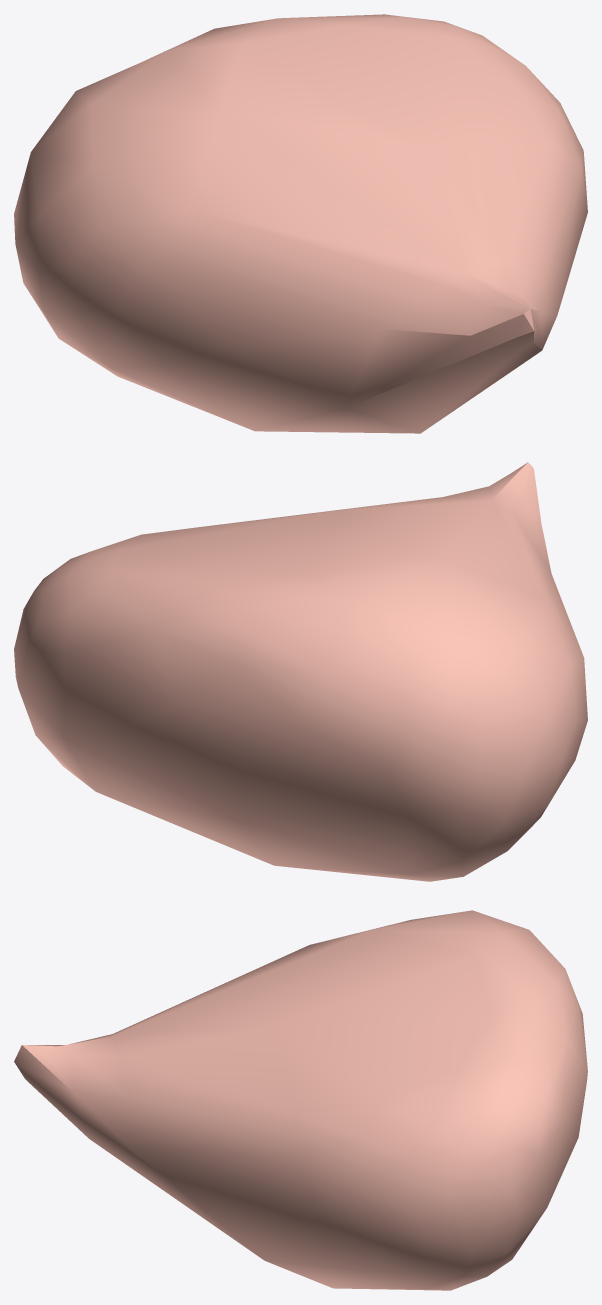
Rendered from bladder.glb.
3 views of the same model, one above another, from view 1: azimuth 30°, elevation 25°; view 2: azimuth 150°, elevation 25°; view 3: azimuth 270°, elevation 25° (orthographic). The views are drawn at different scales.
Visible parts, largest first — view 1: FJ3149; view 2: FJ3149; view 3: FJ3149.
Boxes of the visible parts, <box> form: FJ3149: <box>14,14,587,433</box>; FJ3149: <box>14,462,587,881</box>; FJ3149: <box>14,910,587,1290</box>.
Bounding box in the file's own units: 0.2003 × 0.1208 × 0.2151.
